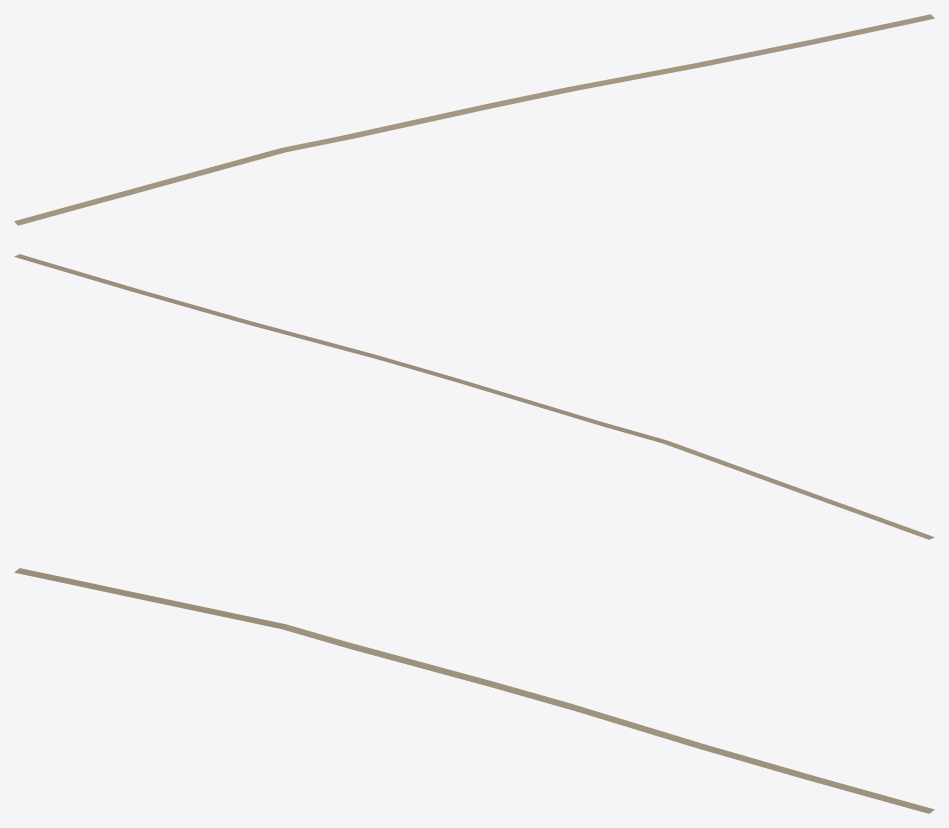
File: farm_10_4_track.glb
3 views of the same model, one above another, from view 1: azimuth 30°, elevation 25°; view 2: azimuth 150°, elevation 25°; view 3: azimuth 330°, elevation 25° (orthographic). The views are drawn at different scales.
Parts seen in each view (by area): view 1: geometry_0; view 2: geometry_0; view 3: geometry_0.
Boxes of the visible parts, bbox=[...] form: geometry_0: bbox=[14, 14, 934, 225]; geometry_0: bbox=[14, 254, 934, 539]; geometry_0: bbox=[14, 568, 934, 813].
Size of the model in its own units: 352 by 8.24 by 28.69.
